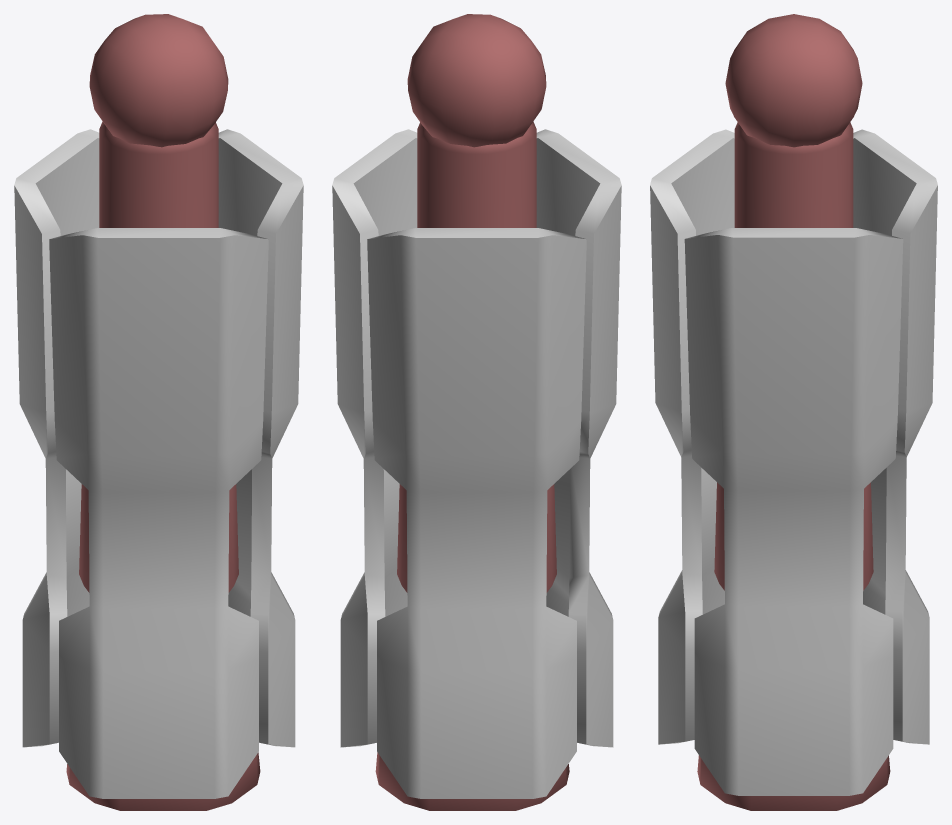
Rendered from SM_LegMiddle.fbx.
The picture shows the model from 3 angles, left to right: view 1: azimuth 30°, elevation 25°; view 2: azimuth 150°, elevation 25°; view 3: azimuth 270°, elevation 25°; orthographic projection.
Visible parts, largest first — view 1: Leg_Middle; view 2: Leg_Middle; view 3: Leg_Middle.
Boxes of the visible parts, x1,y1,x2,y2 form: Leg_Middle: (14, 14, 303, 810); Leg_Middle: (332, 14, 621, 810); Leg_Middle: (650, 14, 937, 810).
Size of the model in its own units: 13.52 by 43.22 by 15.02.
